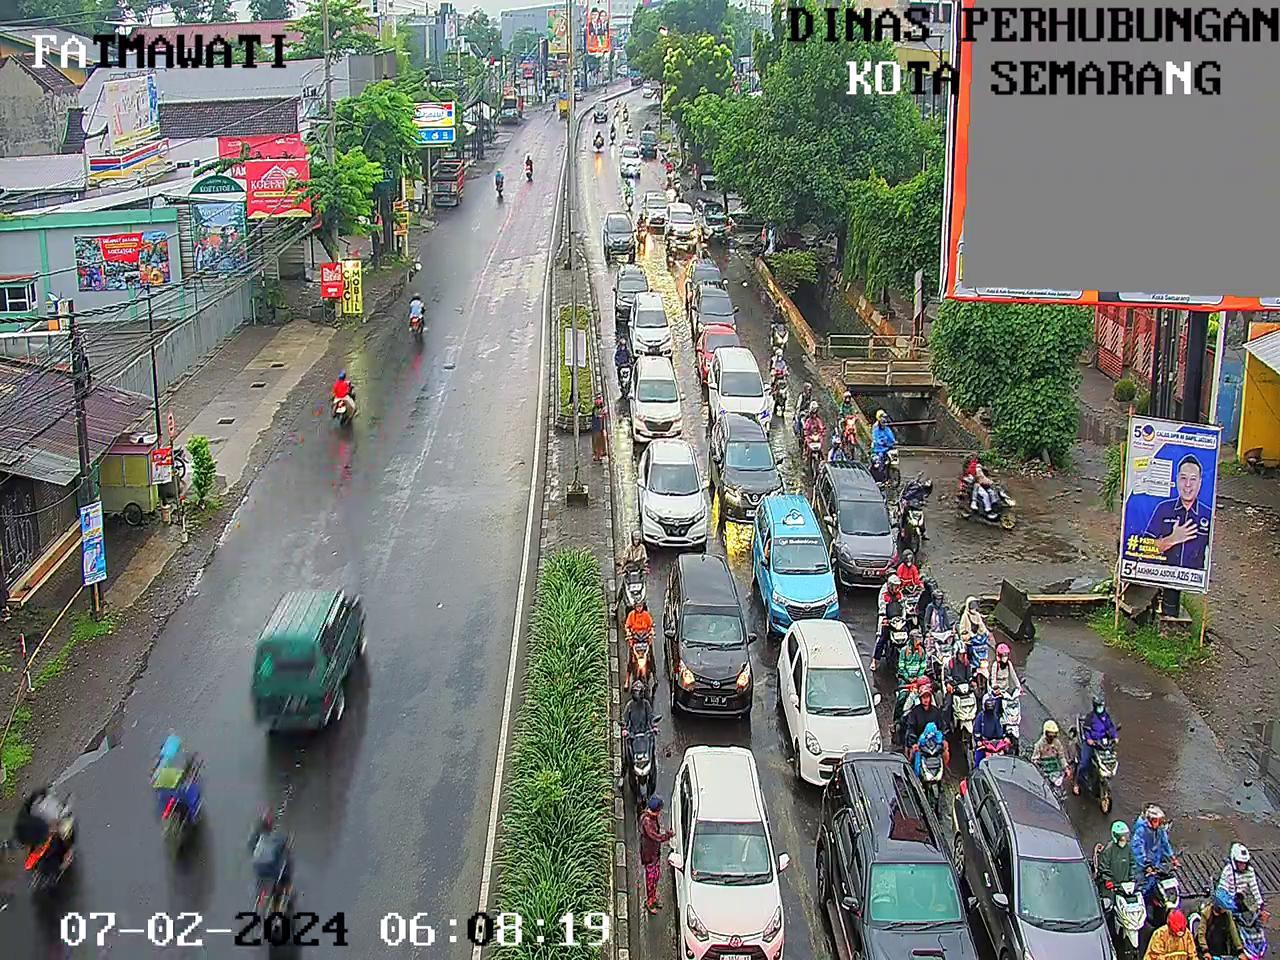car: (980, 744, 1145, 960), (662, 730, 800, 960), (817, 754, 964, 960), (782, 622, 904, 777), (665, 554, 751, 738), (749, 494, 853, 639), (819, 460, 908, 590), (715, 414, 807, 505), (632, 435, 696, 549), (614, 354, 677, 456), (697, 354, 775, 430), (680, 274, 741, 356), (622, 285, 674, 367), (689, 324, 742, 392), (667, 200, 708, 266), (624, 261, 661, 327), (644, 190, 683, 250), (598, 207, 639, 252), (617, 138, 650, 178), (641, 128, 665, 165), (637, 80, 668, 104), (591, 102, 607, 125)
motorcycle: (1086, 819, 1154, 956), (1134, 784, 1194, 922), (1067, 686, 1130, 818), (1212, 842, 1280, 960), (915, 579, 975, 695), (902, 675, 952, 808), (979, 640, 1031, 767), (1023, 717, 1084, 817), (618, 682, 663, 816), (861, 570, 919, 669), (885, 629, 938, 724), (944, 635, 986, 745), (954, 593, 994, 698), (863, 406, 909, 495), (1196, 891, 1253, 960), (619, 595, 659, 685), (886, 541, 932, 615), (890, 480, 934, 556), (611, 542, 657, 612), (1147, 904, 1196, 960), (878, 443, 910, 516), (762, 351, 799, 410), (798, 401, 827, 475), (833, 390, 863, 459), (774, 297, 800, 362), (615, 177, 648, 220), (616, 328, 634, 387), (661, 155, 686, 197), (793, 376, 816, 419), (824, 428, 851, 465), (664, 150, 685, 189), (605, 99, 637, 122), (591, 129, 606, 159), (603, 121, 618, 145)
